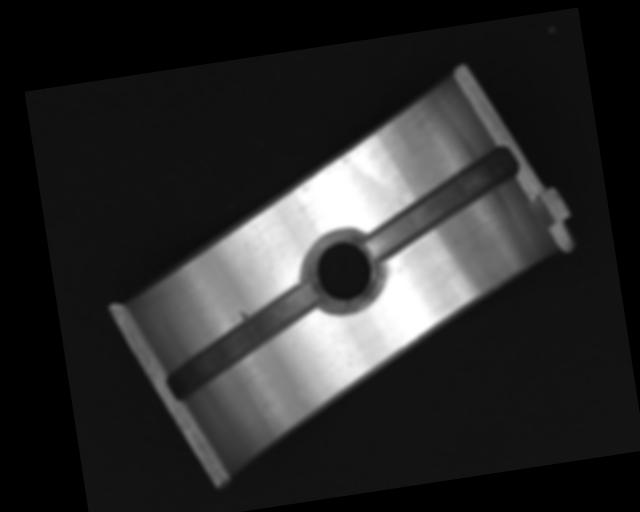bruise: (238, 307, 251, 320)
gap: (156, 280, 327, 401), (354, 144, 527, 260)
hole: (302, 227, 384, 314)
